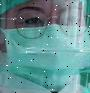with_mask: (2, 1, 90, 93)
